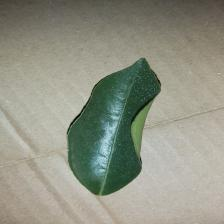healthy: (40, 62, 167, 191)
